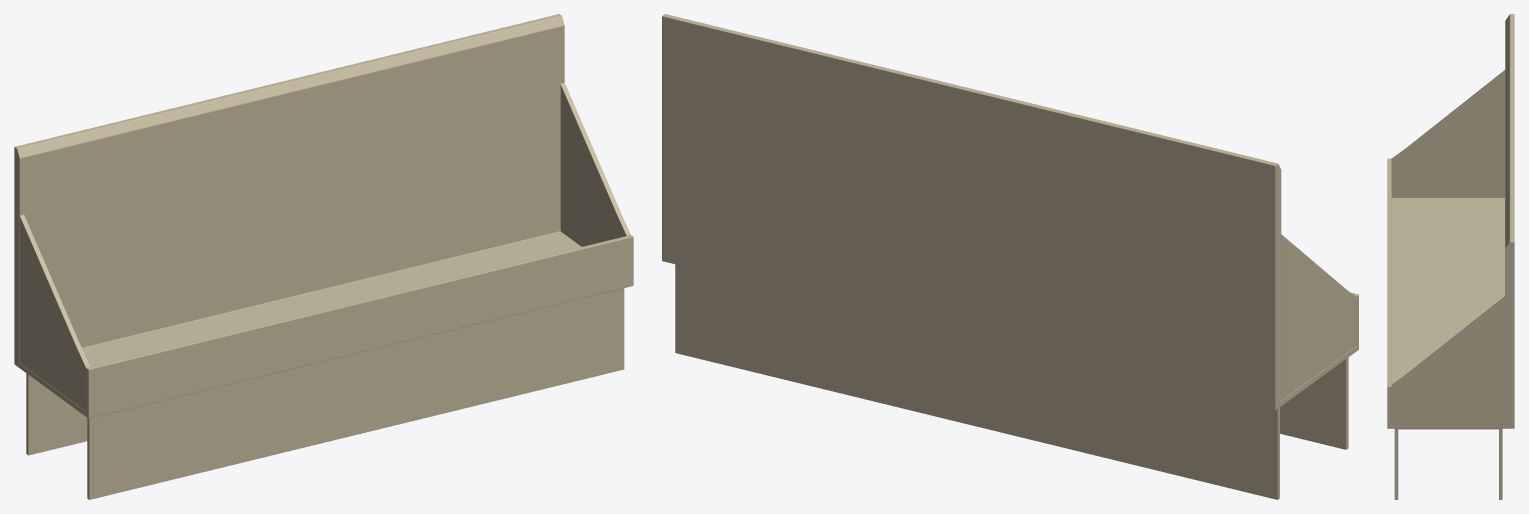
File: cleaner-display-tray.glb
The picture shows the model from 3 angles, left to right: view 1: azimuth 30°, elevation 25°; view 2: azimuth 150°, elevation 25°; view 3: azimuth 270°, elevation 25°; orthographic projection. The views are drawn at different scales.
Visible parts, largest first — view 1: Folded tray deck and retaining lips, Folded hollow base riser, Folded end cheek -1, Folded end cheek 1; view 2: Folded tray deck and retaining lips, Folded hollow base riser, Folded end cheek -1; view 3: Folded tray deck and retaining lips, Folded end cheek 1, Folded end cheek -1, Folded hollow base riser.
Part boxes in pixels (box(x1,y1,x2,y2)): Folded tray deck and retaining lips: box(14, 14, 633, 418); Folded hollow base riser: box(26, 288, 624, 499); Folded end cheek -1: box(20, 214, 90, 411); Folded end cheek 1: box(560, 83, 630, 246); Folded tray deck and retaining lips: box(662, 14, 1358, 410); Folded hollow base riser: box(675, 264, 1348, 499); Folded end cheek -1: box(1281, 234, 1355, 400); Folded tray deck and retaining lips: box(1387, 14, 1514, 428); Folded end cheek 1: box(1391, 296, 1505, 424); Folded end cheek -1: box(1391, 70, 1505, 197); Folded hollow base riser: box(1394, 428, 1502, 499).
Bounding box in the file's own units: 2.2 × 1.17 × 0.519.
